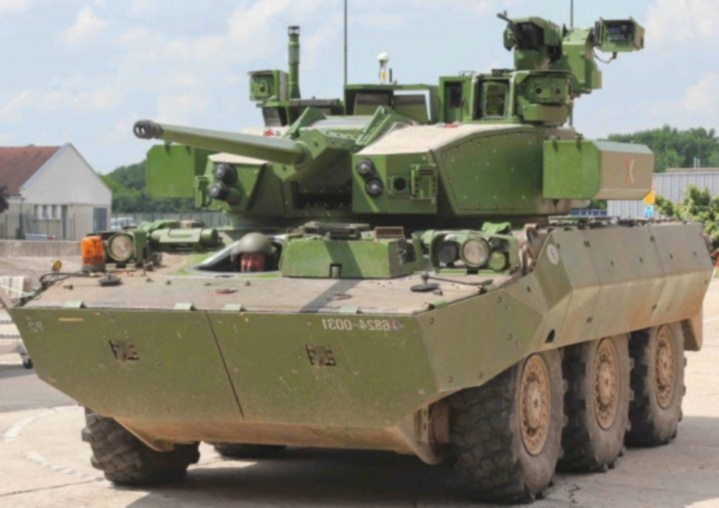license_plate: (317, 313, 410, 335)
